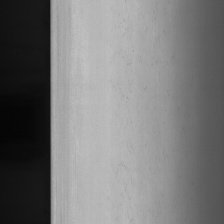silk_spot: (109, 2, 171, 205)
